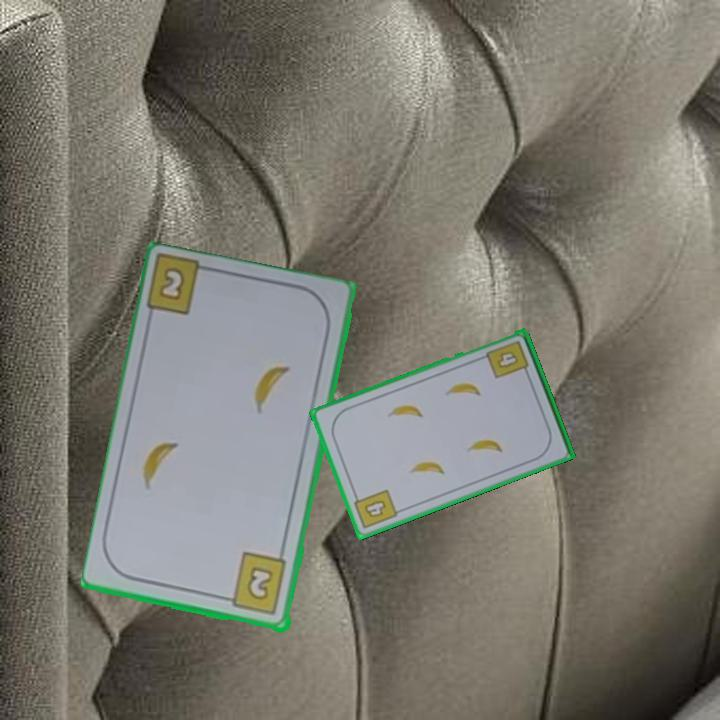2b: (220, 550, 290, 618), (159, 267, 186, 301)
4b: (350, 486, 400, 532), (493, 350, 519, 370)
